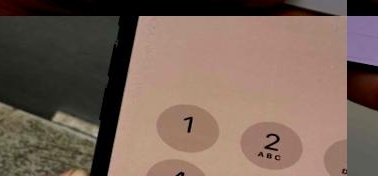scratch: (93, 16, 150, 75)
